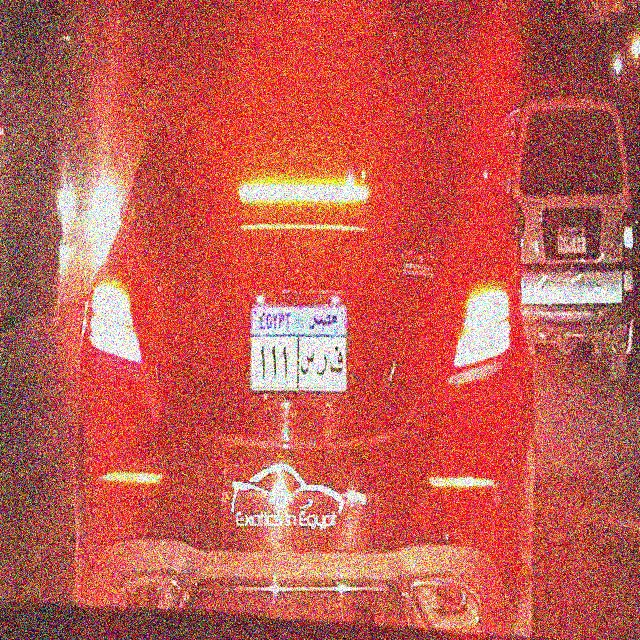License Plate: (248, 292, 348, 397), (556, 223, 588, 257)
